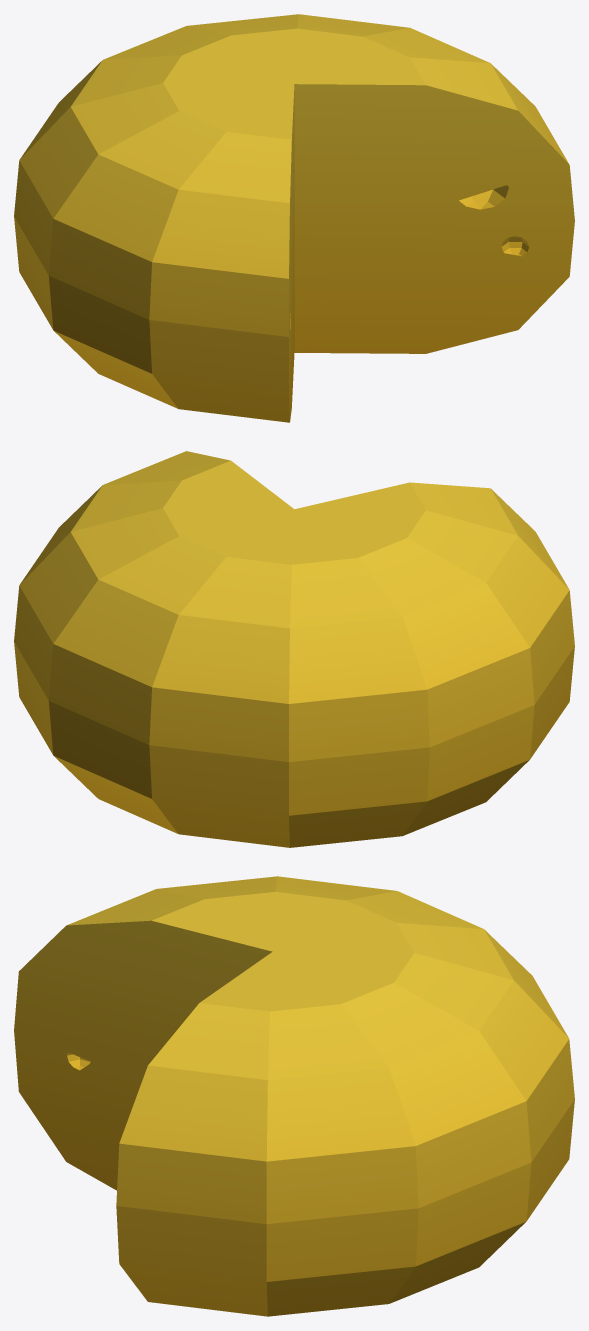
Rendered from cheese_2.fbx.
3 views of the same model, one above another, from view 1: azimuth 30°, elevation 25°; view 2: azimuth 150°, elevation 25°; view 3: azimuth 270°, elevation 25° (orthographic). The views are drawn at different scales.
Visible parts, largest first — view 1: cheese_2; view 2: cheese_2; view 3: cheese_2.
Part boxes in pixels (bbox=[...]): cheese_2: bbox=[14, 14, 574, 422]; cheese_2: bbox=[14, 451, 574, 847]; cheese_2: bbox=[14, 876, 574, 1316].
Bounding box in the file's own units: 0.4263 × 0.2253 × 0.3956.
